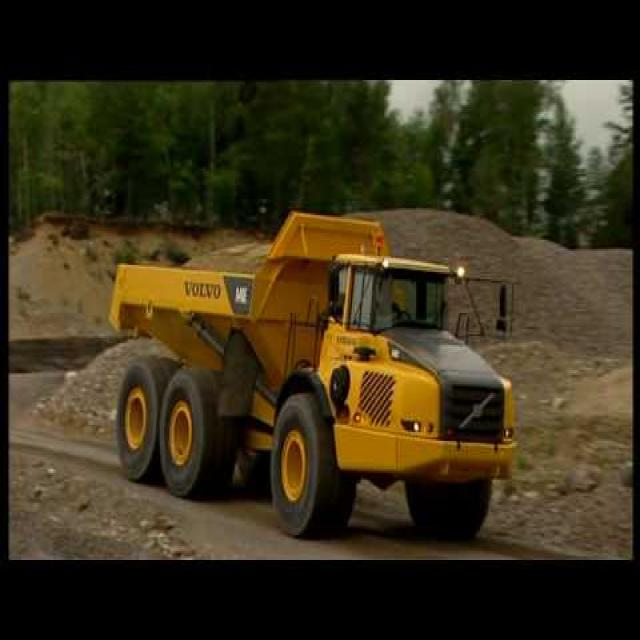dump_truck: (111, 208, 501, 537)
